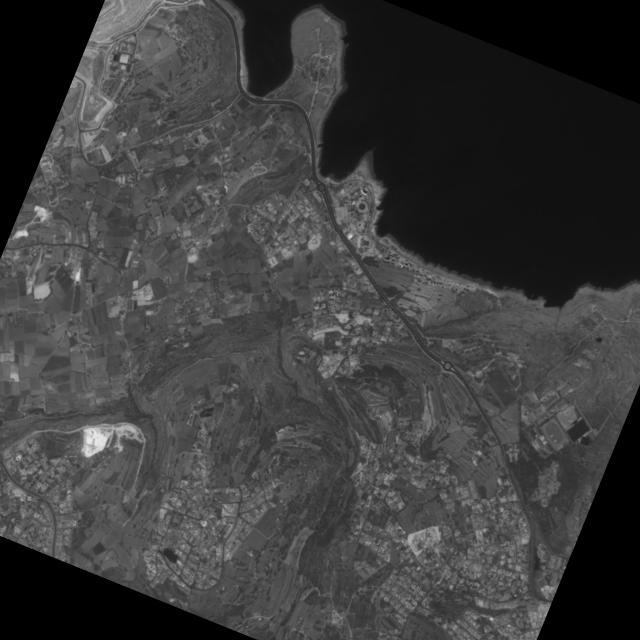storage-tank: (124, 41, 133, 50), (120, 41, 127, 48), (111, 61, 116, 67), (107, 58, 112, 64)
